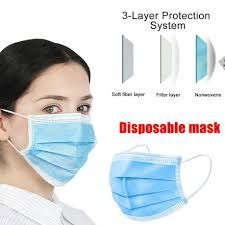with-mask: (8, 49, 99, 191)
